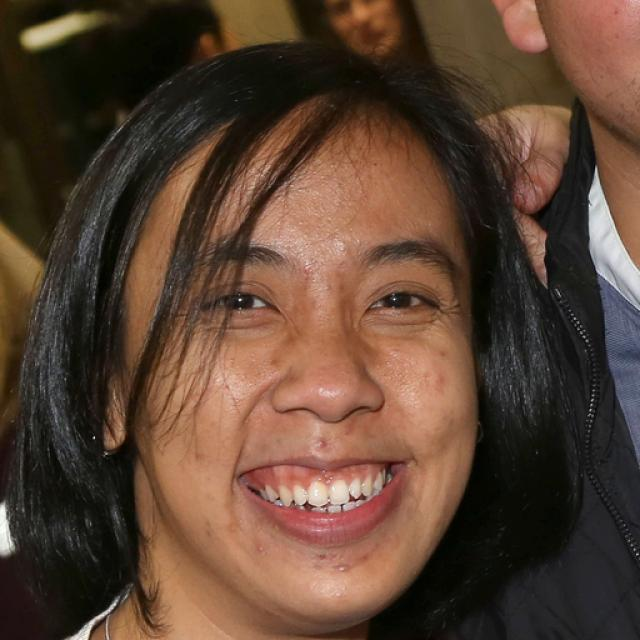Acne: (299, 261, 316, 278), (328, 587, 346, 602), (335, 561, 350, 575), (314, 437, 329, 450), (254, 541, 267, 554), (323, 283, 333, 294)
